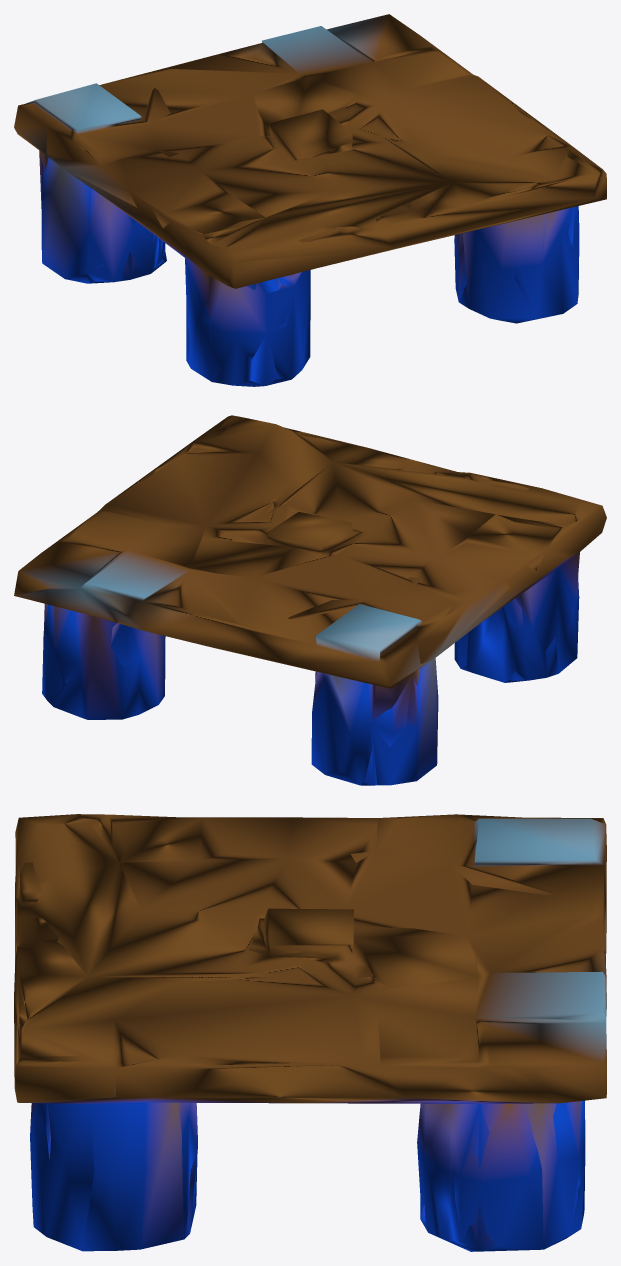
Rendered from gen3d-floating-dock-lod1.glb.
3 views of the same model, one above another, from view 1: azimuth 30°, elevation 25°; view 2: azimuth 150°, elevation 25°; view 3: azimuth 270°, elevation 25° (orthographic). The views are drawn at different scales.
Parts seen in each view (by area): view 1: part_0; view 2: part_0; view 3: part_0.
Part boxes in pixels (bbox=[...]): part_0: bbox=[14, 14, 606, 386]; part_0: bbox=[14, 415, 606, 785]; part_0: bbox=[14, 814, 606, 1251].
Size of the model in its own units: 2.62 by 0.9968 by 2.6.
